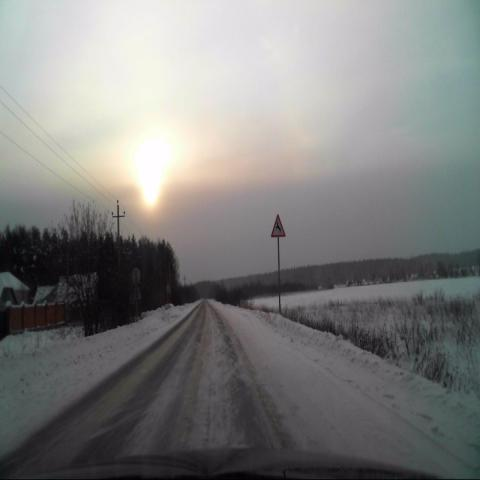1_27: (270, 214, 286, 238)
